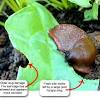slug: (46, 23, 95, 74)
